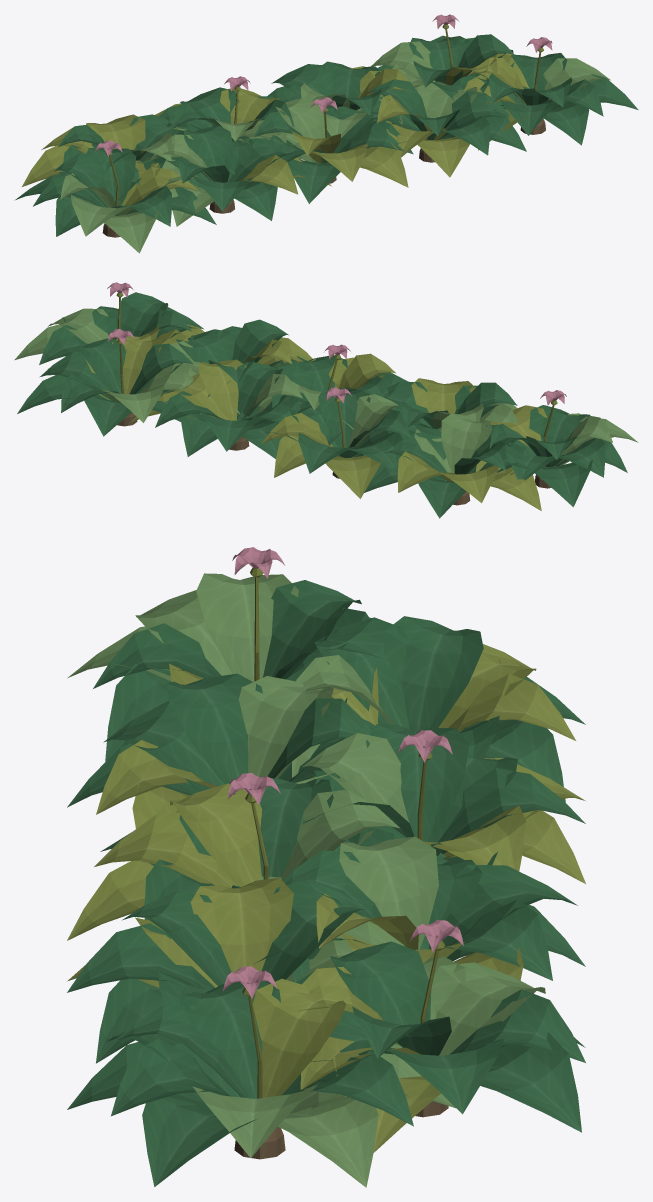
File: AST-BOT-003_pool_basal_02.glb
The picture shows the model from 3 angles, top to bottom: view 1: azimuth 30°, elevation 25°; view 2: azimuth 150°, elevation 25°; view 3: azimuth 270°, elevation 25°; orthographic projection. The views are drawn at different scales.
Parts seen in each view (by area): view 1: RT_AST-BOT-003_pool_basal_02__leaf_jade, RT_AST-BOT-003_pool_basal_02__leaf_olive, RT_AST-BOT-003_pool_basal_02__leaf_sage, RT_AST-BOT-003_pool_basal_02__flower, RT_AST-BOT-003_pool_basal_02__bark; view 2: RT_AST-BOT-003_pool_basal_02__leaf_jade, RT_AST-BOT-003_pool_basal_02__leaf_olive, RT_AST-BOT-003_pool_basal_02__leaf_sage, RT_AST-BOT-003_pool_basal_02__flower, RT_AST-BOT-003_pool_basal_02__bark; view 3: RT_AST-BOT-003_pool_basal_02__leaf_jade, RT_AST-BOT-003_pool_basal_02__leaf_olive, RT_AST-BOT-003_pool_basal_02__leaf_sage, RT_AST-BOT-003_pool_basal_02__flower, RT_AST-BOT-003_pool_basal_02__bark.
Part boxes in pixels (<box>): RT_AST-BOT-003_pool_basal_02__leaf_jade: <box>14,34,638,236</box>; RT_AST-BOT-003_pool_basal_02__leaf_olive: <box>22,24,543,215</box>; RT_AST-BOT-003_pool_basal_02__leaf_sage: <box>60,41,610,253</box>; RT_AST-BOT-003_pool_basal_02__flower: <box>95,14,552,156</box>; RT_AST-BOT-003_pool_basal_02__bark: <box>102,118,545,237</box>; RT_AST-BOT-003_pool_basal_02__leaf_jade: <box>17,292,627,518</box>; RT_AST-BOT-003_pool_basal_02__leaf_olive: <box>47,292,557,510</box>; RT_AST-BOT-003_pool_basal_02__leaf_sage: <box>14,308,638,480</box>; RT_AST-BOT-003_pool_basal_02__flower: <box>107,282,566,405</box>; RT_AST-BOT-003_pool_basal_02__bark: <box>117,412,555,505</box>; RT_AST-BOT-003_pool_basal_02__leaf_jade: <box>67,580,585,1186</box>; RT_AST-BOT-003_pool_basal_02__leaf_olive: <box>67,567,585,1152</box>; RT_AST-BOT-003_pool_basal_02__leaf_sage: <box>67,573,545,1187</box>; RT_AST-BOT-003_pool_basal_02__flower: <box>223,547,463,998</box>; RT_AST-BOT-003_pool_basal_02__bark: <box>234,1101,448,1159</box>.
Size of the model in its own units: 2.17 by 0.3264 by 0.86.
Materials: 5 (5 with a texture image).
